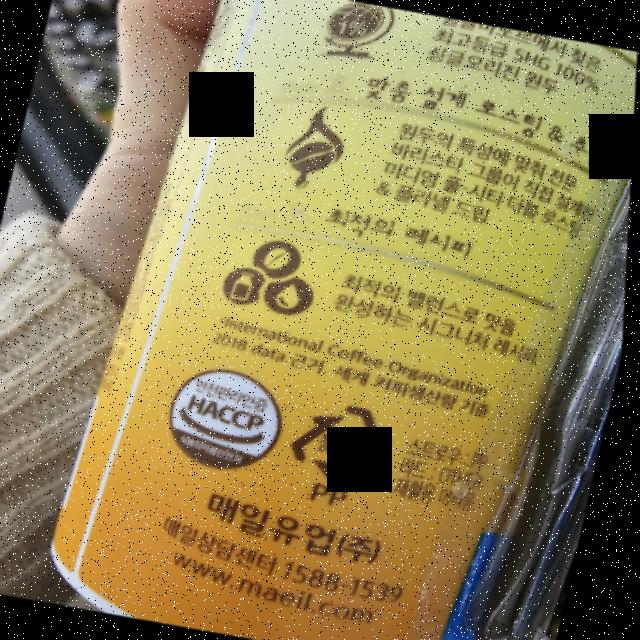Plastic: (287, 394, 407, 490)
